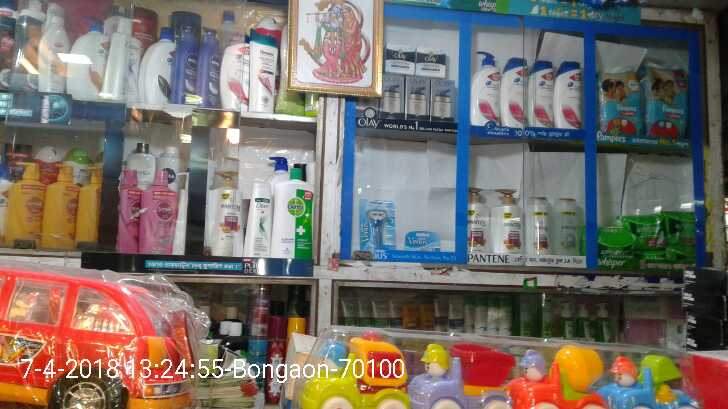venus: (360, 197, 395, 248), (405, 229, 439, 250)
